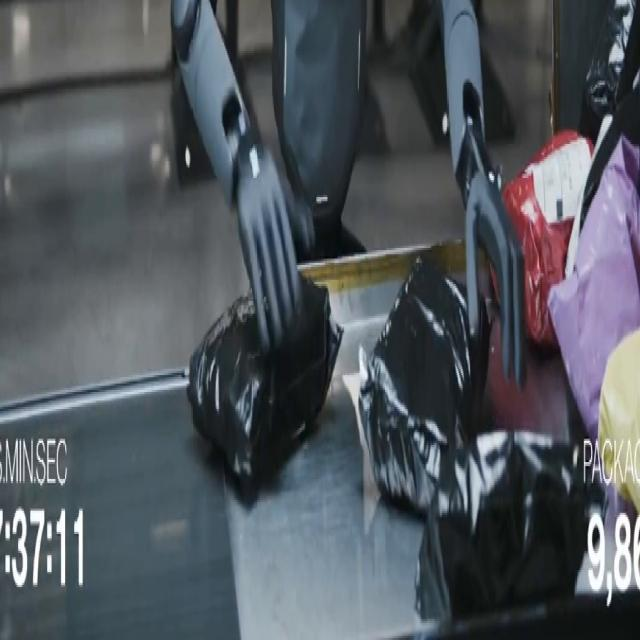package: (416, 433, 605, 618), (188, 278, 342, 498), (359, 257, 489, 512), (550, 136, 639, 442), (503, 132, 593, 349), (566, 87, 639, 277), (486, 318, 571, 440), (580, 0, 639, 141), (565, 115, 613, 277), (598, 331, 639, 510)
